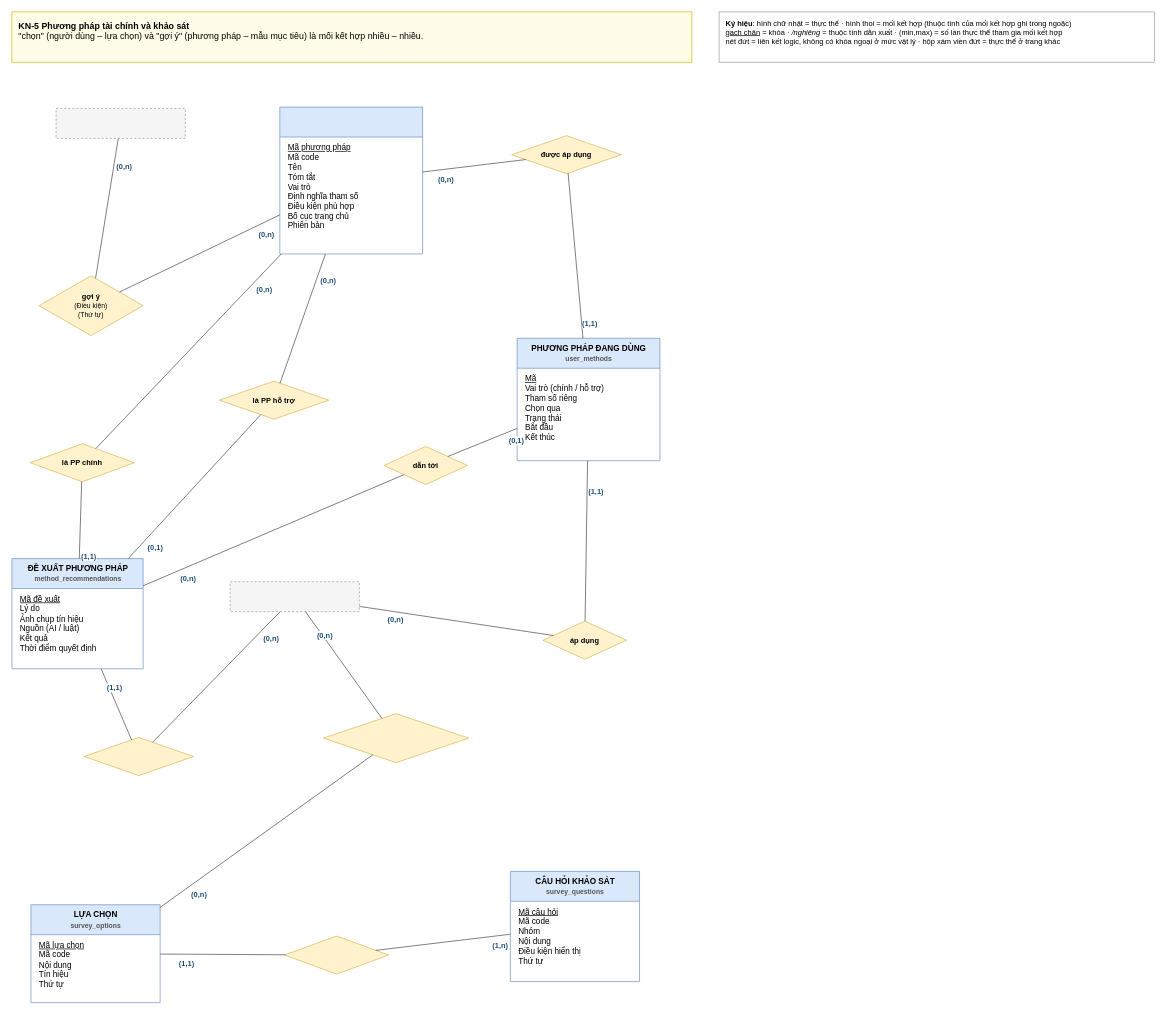
The diagram is 1166 pixels wide and 1017 high, and some of its shapes have lost their labels. The shapes that lost their labels are listed below. From the top down, each one's box as (x1, y1, x2, y2) in pixels, then its label:
(55, 108, 185, 138): MẪU MỤC TIÊU goal_templates
(279, 106, 423, 254): PHƯƠNG PHÁP TÀI CHÍNH finance_methods
(230, 581, 359, 612): NGƯỜI DÙNG users
(83, 737, 193, 776): nhận đề xuất
(323, 713, 469, 763): chọn (Thời điểm trả lời)
(284, 935, 389, 974): có lựa chọn
